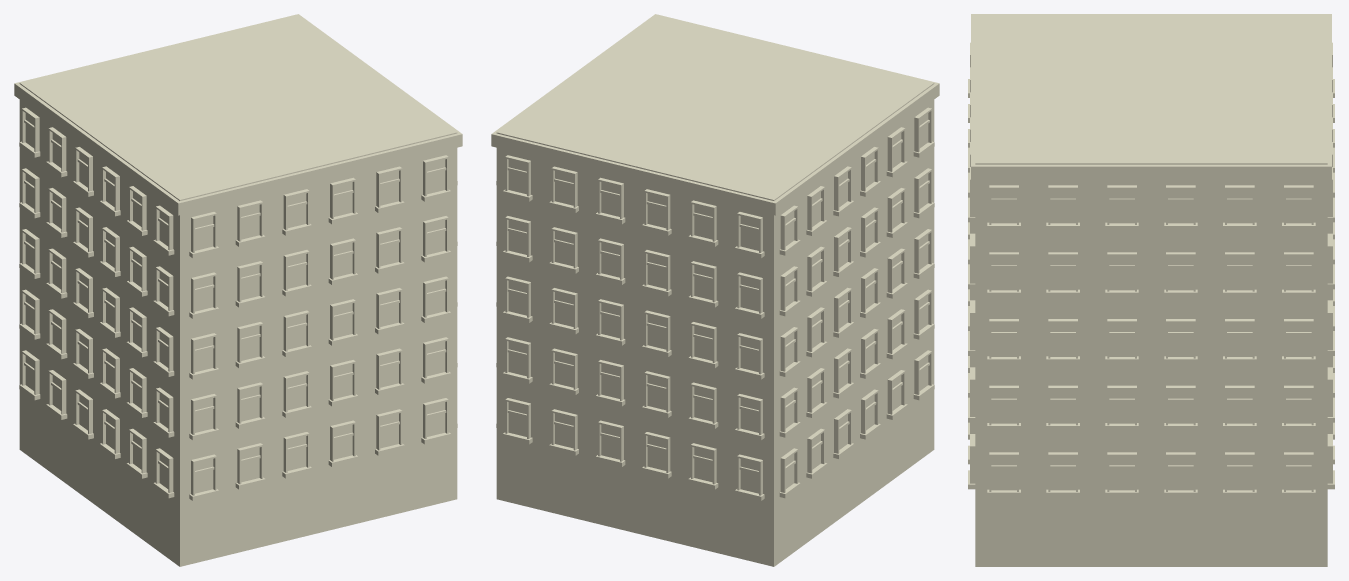
File: Building2.fbx
3 views of the same model, side by side, from view 1: azimuth 30°, elevation 25°; view 2: azimuth 150°, elevation 25°; view 3: azimuth 270°, elevation 25° (orthographic). The views are drawn at different scales.
Visible parts, largest first — view 1: Cube.003, Cube.002; view 2: Cube.003, Cube.002; view 3: Cube.003, Cube.002.
Boxes of the visible parts, x1,y1,x2,y2 form: Cube.003: [14, 14, 462, 566]; Cube.002: [19, 107, 457, 500]; Cube.003: [491, 14, 939, 566]; Cube.002: [496, 107, 934, 500]; Cube.003: [971, 14, 1331, 566]; Cube.002: [968, 42, 1334, 497].
Size of the model in its own units: 2491 by 3024 by 2491.
